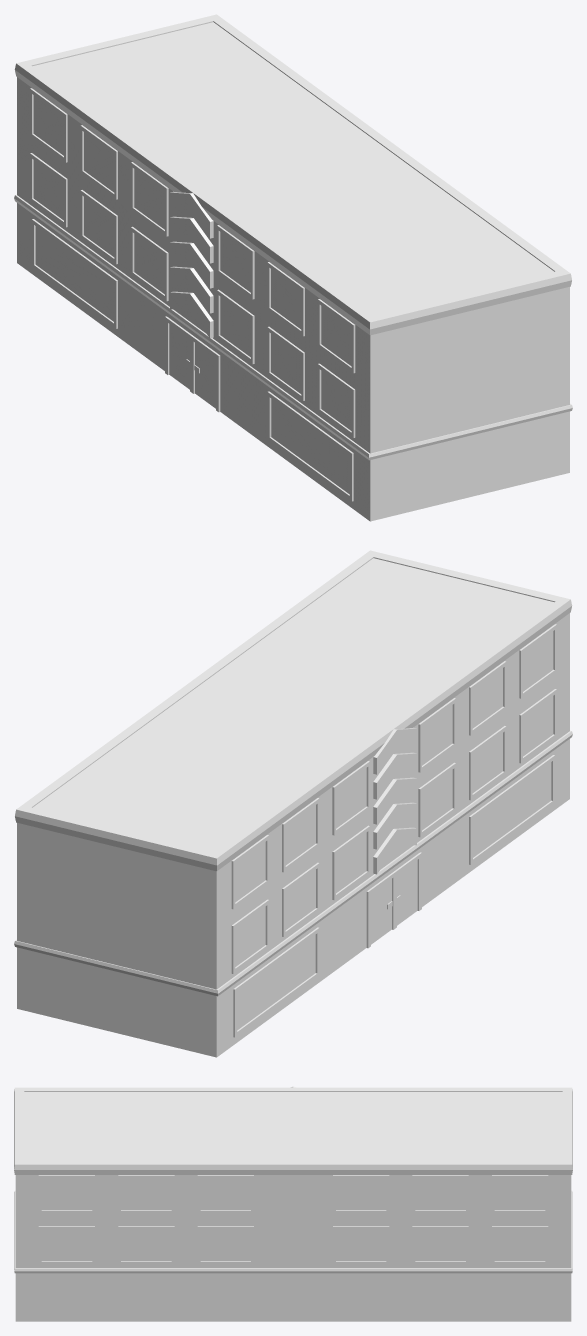
The model's file is Buildings.fbx.
3 renders of one model, top to bottom at view 1: azimuth 30°, elevation 25°; view 2: azimuth 150°, elevation 25°; view 3: azimuth 270°, elevation 25°, orthographic. The views are drawn at different scales.
Parts seen in each view (by area): view 1: House; view 2: House; view 3: House.
Boxes of the visible parts, <box> form: House: <box>14,14,572,521</box>; House: <box>14,550,572,1057</box>; House: <box>14,1086,572,1321</box>.
Size of what is drawn, in the model's own units: 108 by 100 by 323.
